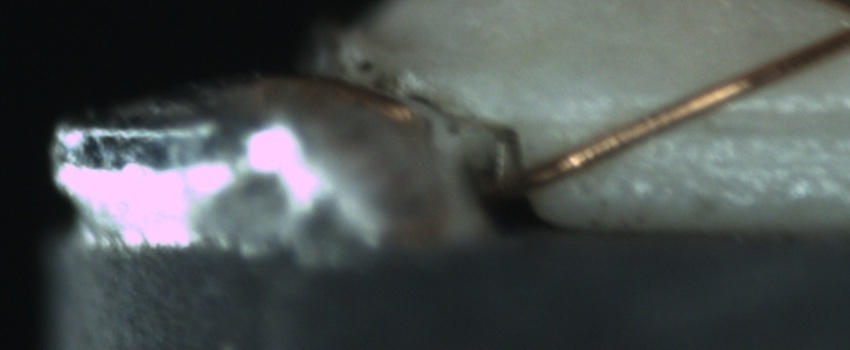DL: (613, 85, 849, 154)
